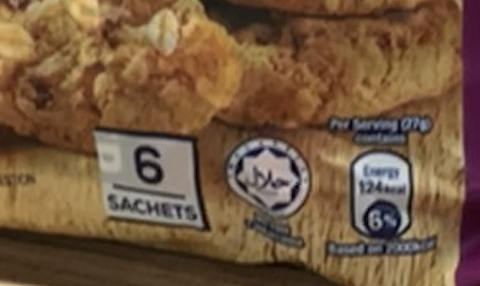halal: (241, 158, 297, 195)
